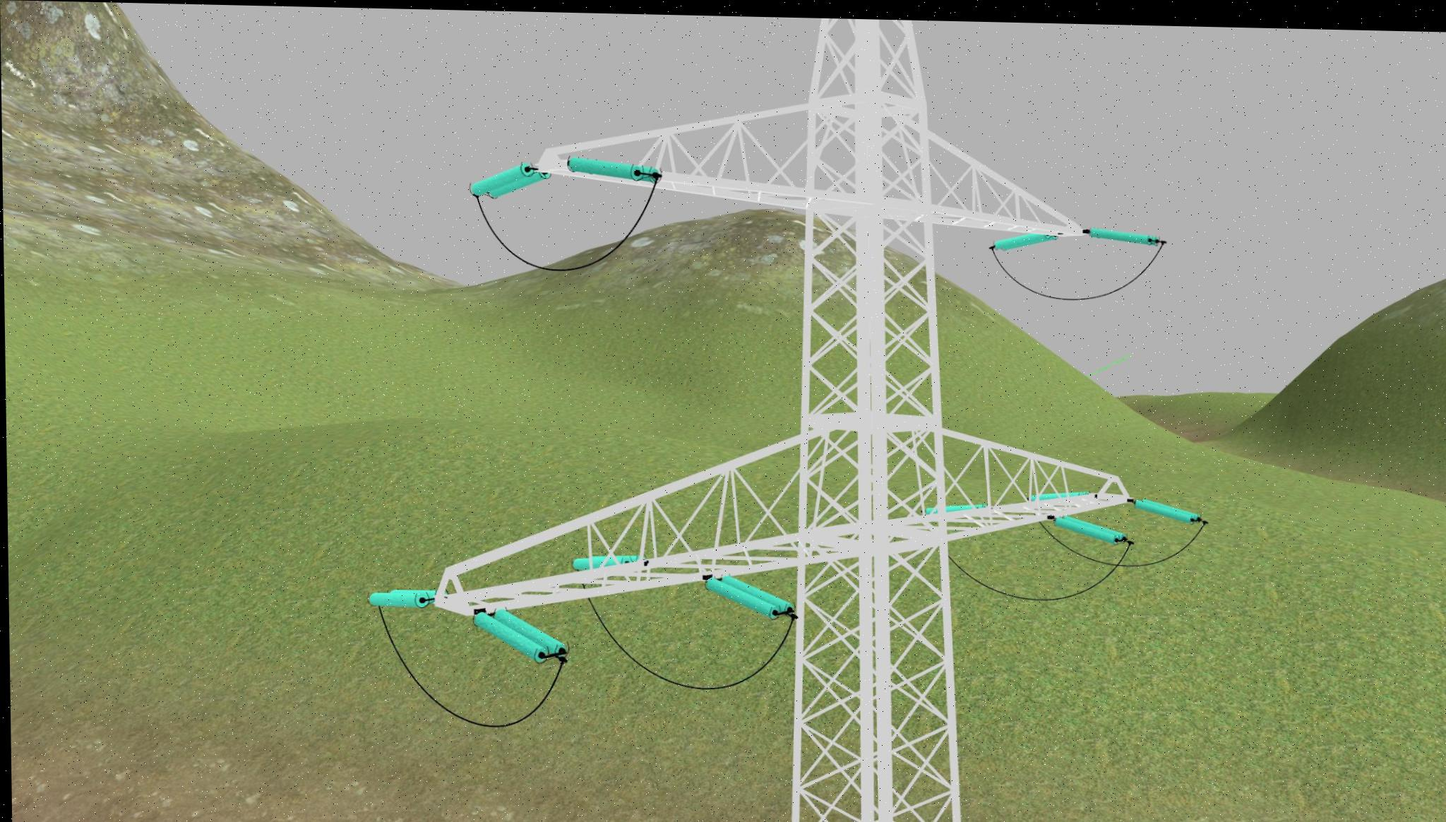tower: (422, 9, 1134, 822)
